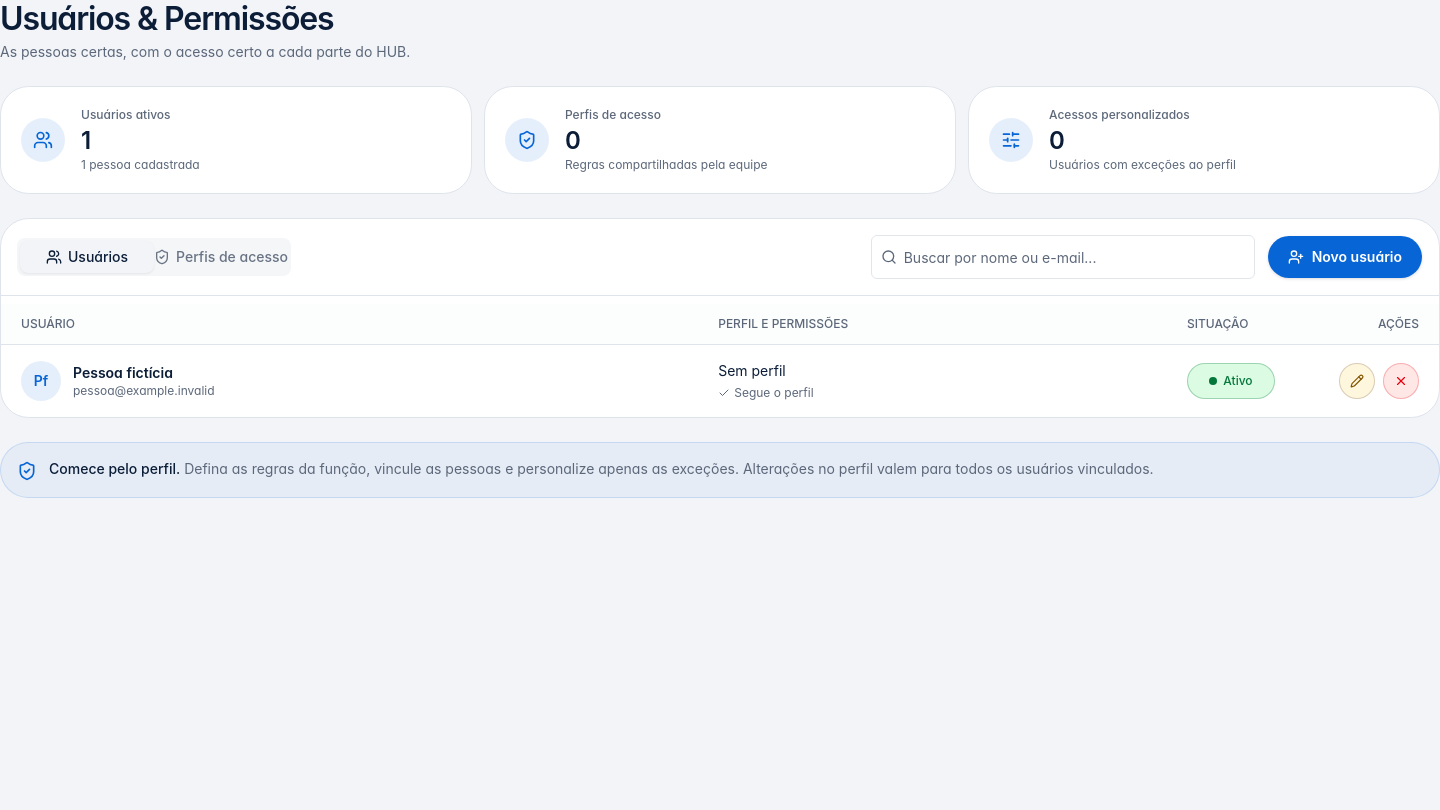
envia id e versão corretos, bloqueia duplicação pendente e recarrega após sucesso sem perder busca
Type "Pessoa" into the field named "Buscar usuários ou perfis" at (1063,257), box [871,235,1255,279]
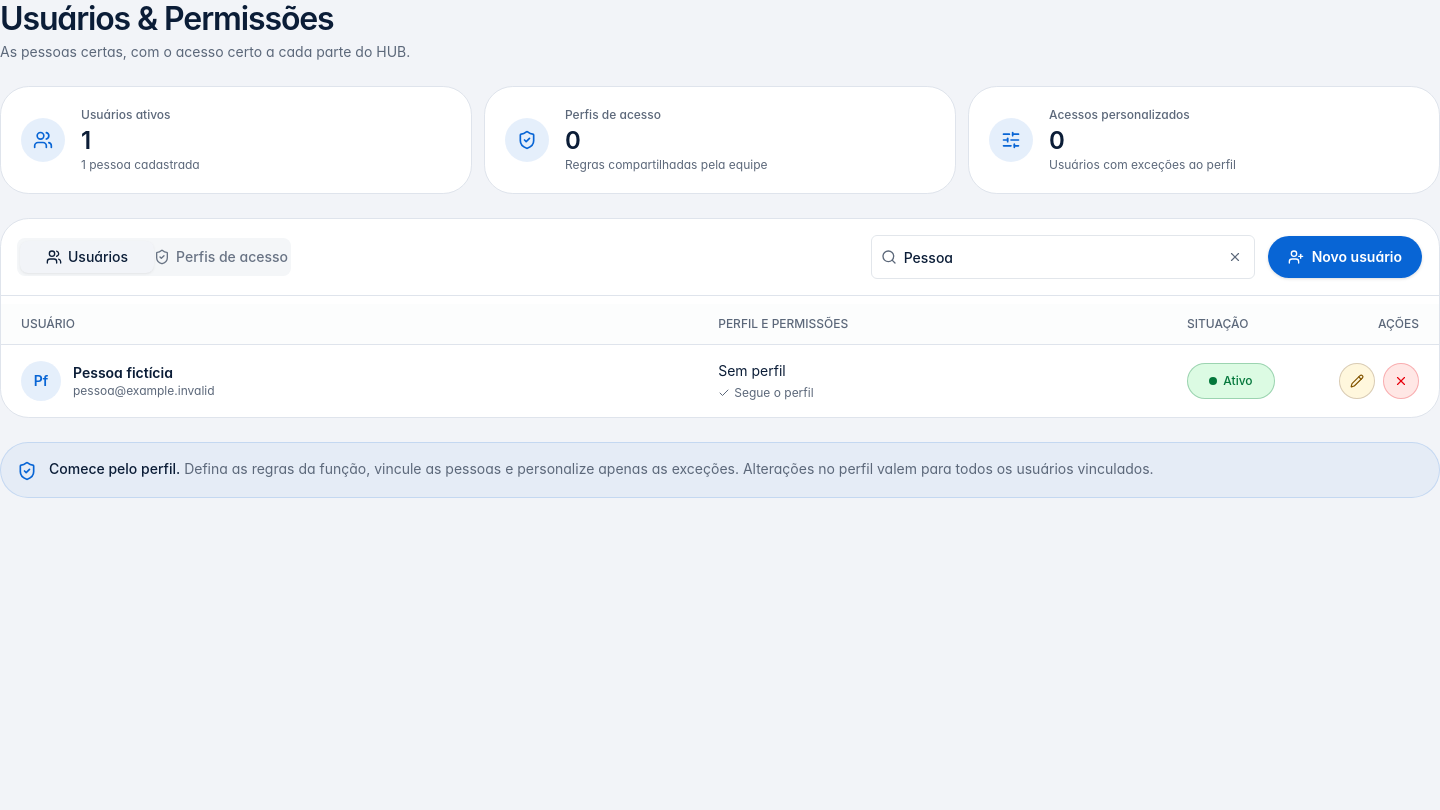
Click the button named "Excluir usuário Pessoa fictícia" at (1401,381), box [1383,363,1419,399]
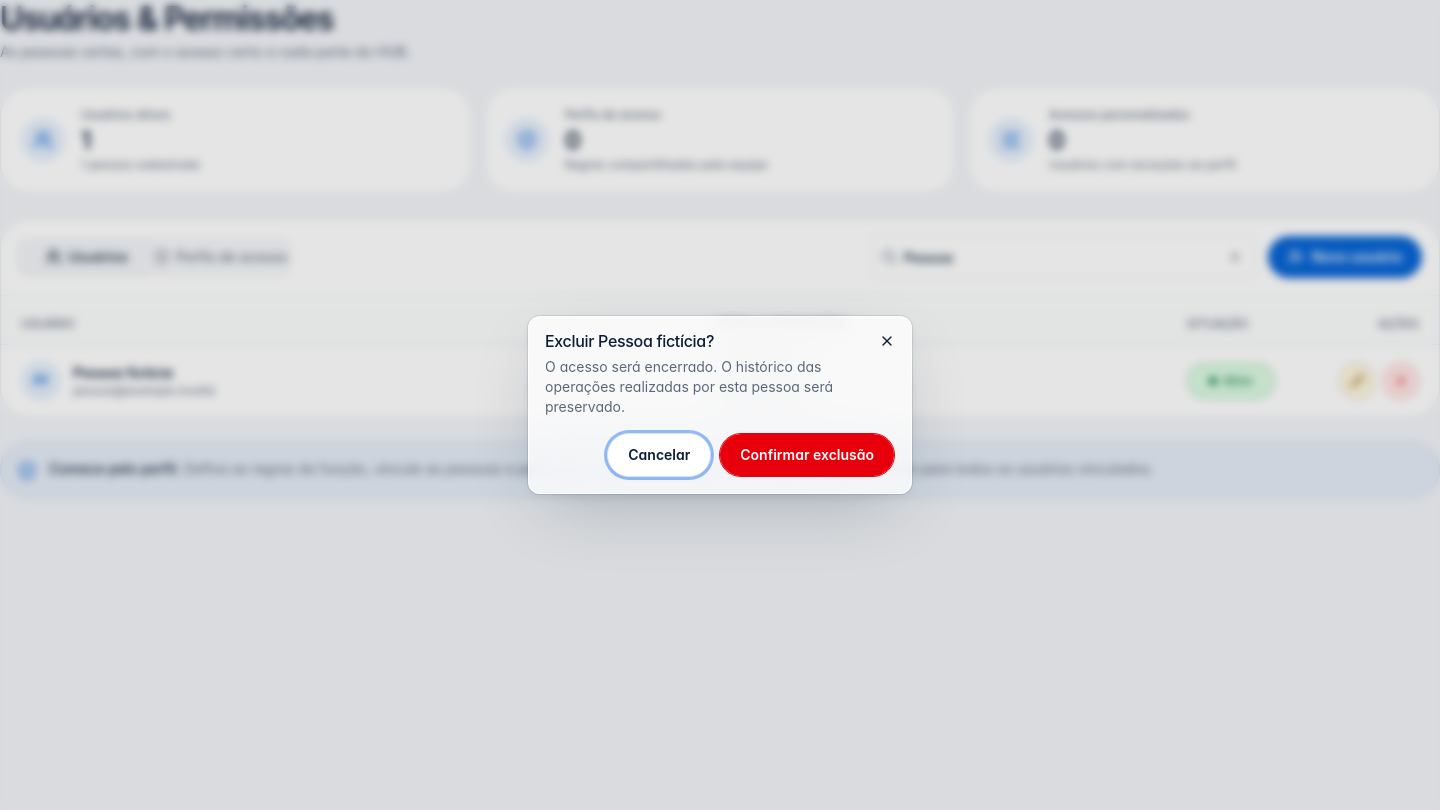
Click the button "Confirmar exclusão" at (807,455), box [719,433,895,477]
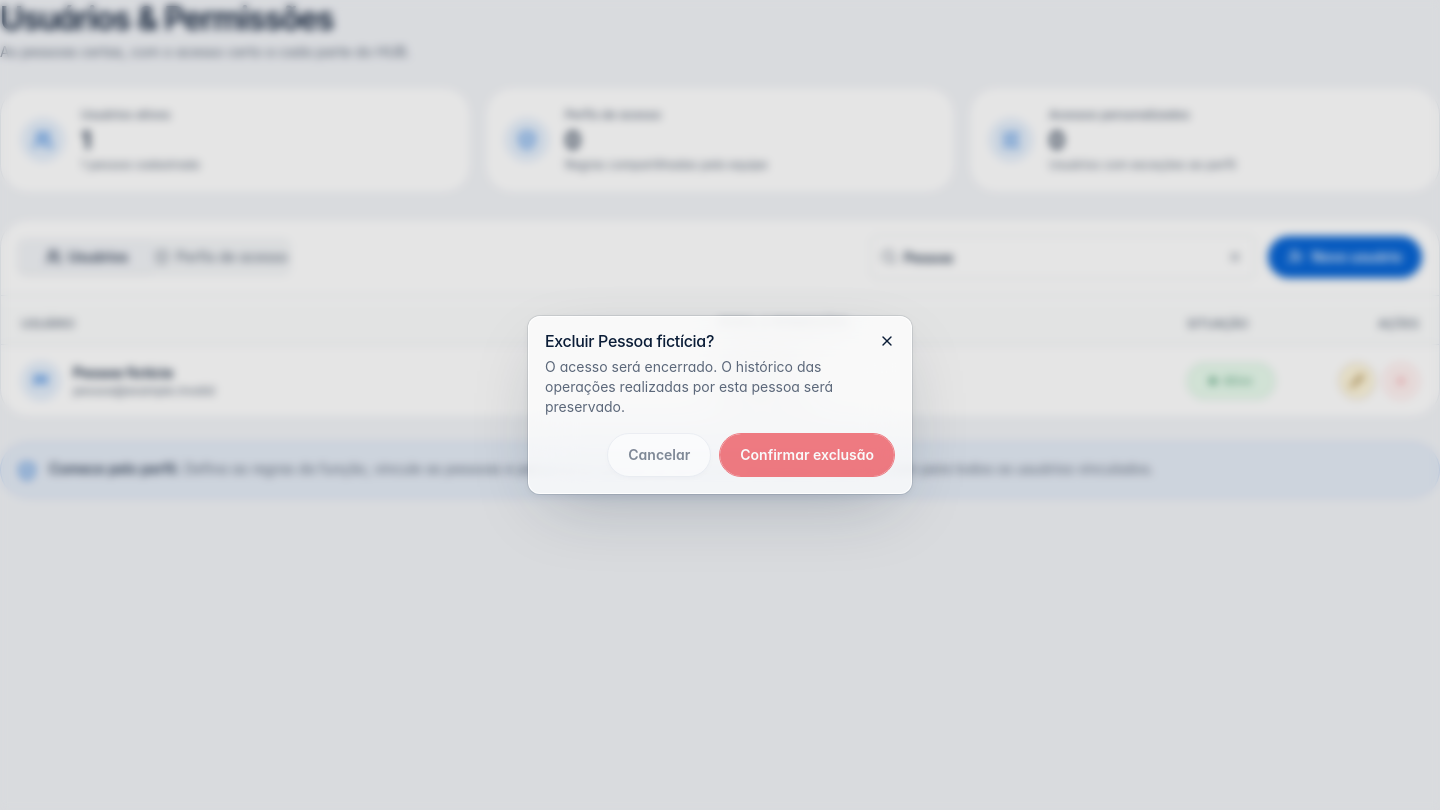
expect the button "Confirmar exclusão" is disabled: met
expect the button "Cancelar" is disabled: met, box [607,433,711,477]
Click the button "Confirmar exclusão" at (807,455), box [719,433,895,477]
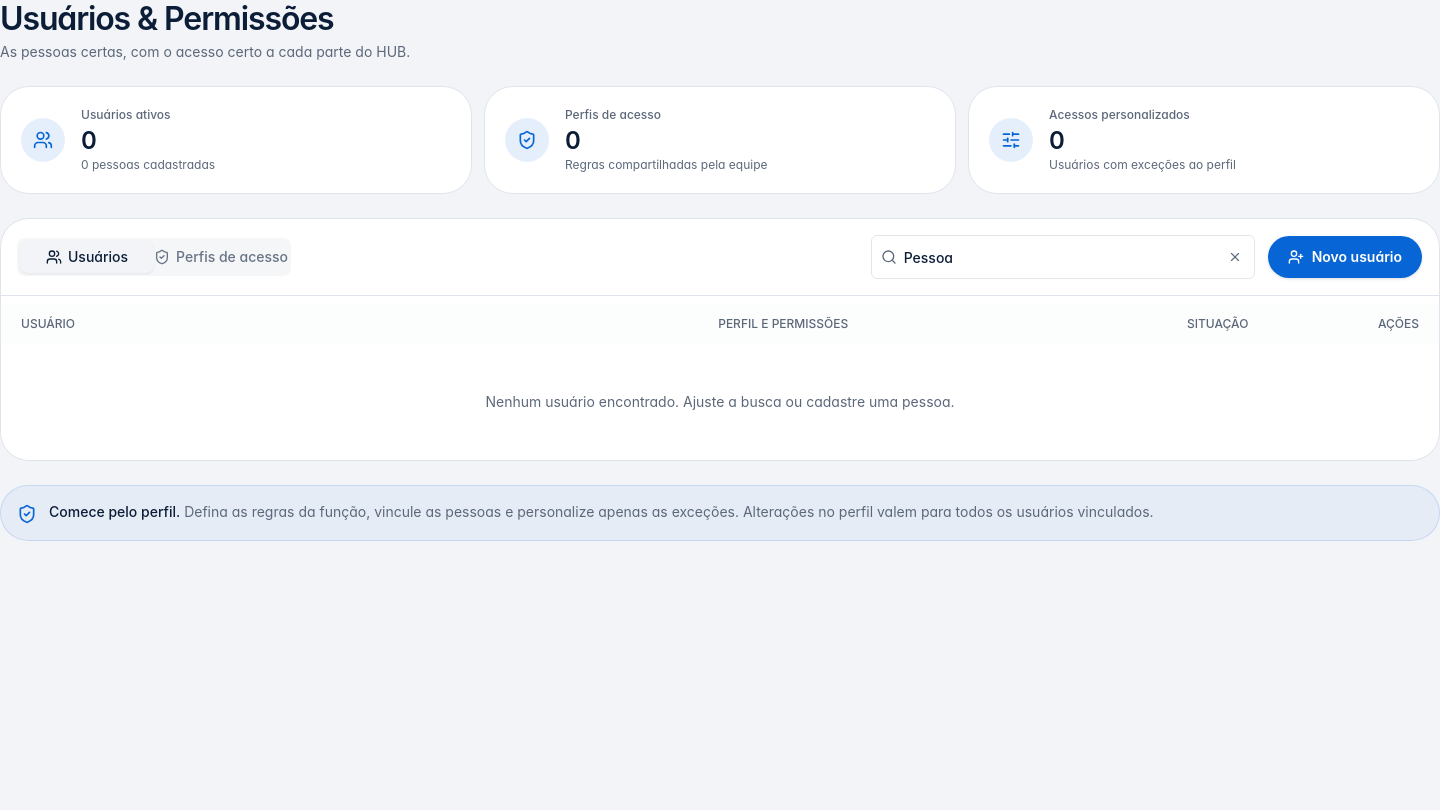
expect the dialog is gone: met
